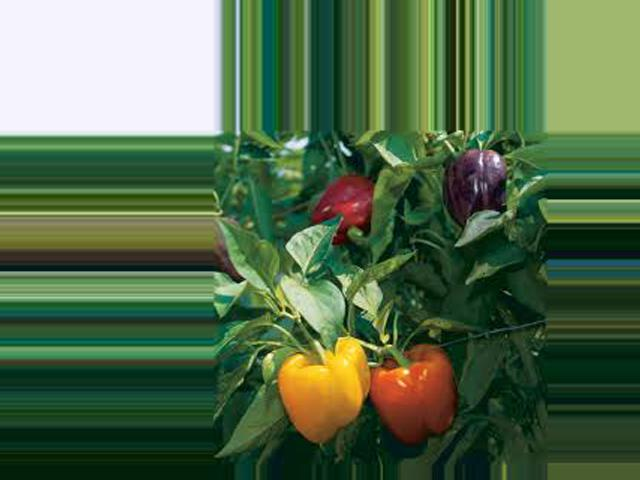bell_pepper: (276, 331, 390, 438)
